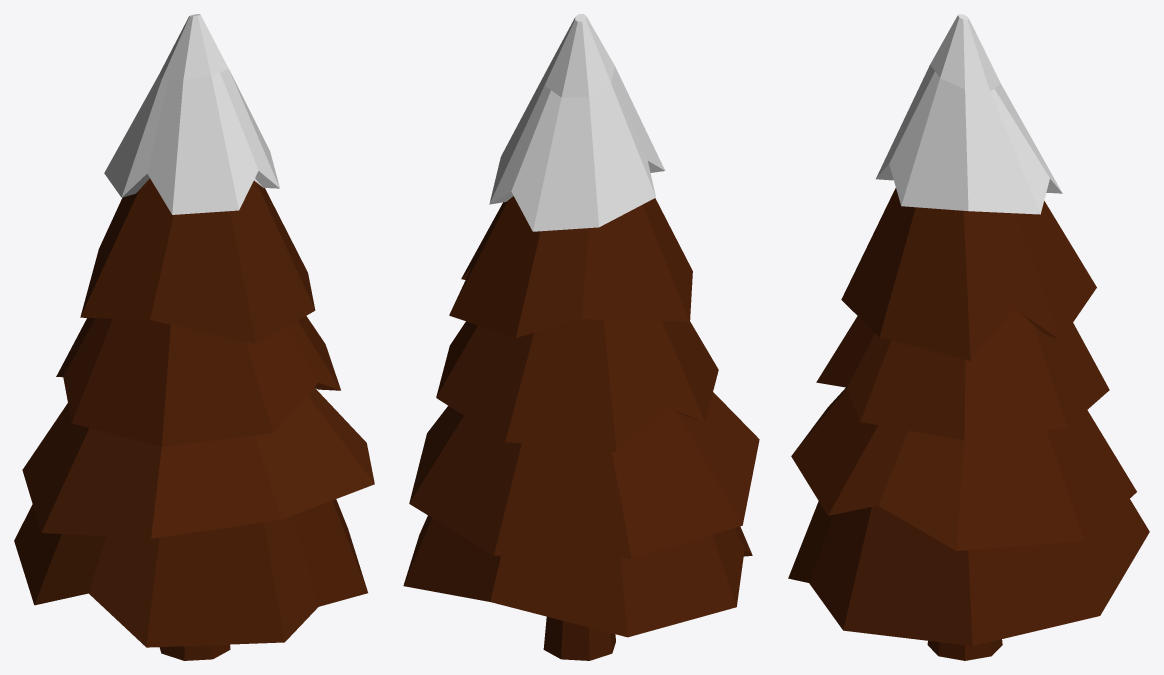
File: PistolGun.fbx
The picture shows the model from 3 angles, left to right: view 1: azimuth 30°, elevation 25°; view 2: azimuth 150°, elevation 25°; view 3: azimuth 270°, elevation 25°; orthographic projection.
Parts seen in each view (by area): view 1: Bottor green part, Middle green part 1, Middle green part 2, Middle green part 2.001, Top green part 2.002, Stvol; view 2: Middle green part 1, Middle green part 2, Middle green part 2.001, Bottor green part, Top green part 2.002, Stvol; view 3: Middle green part 1, Bottor green part, Middle green part 2.001, Middle green part 2, Top green part 2.002, Stvol.
Boxes of the visible parts, box(x1,y1,x2,y2) form: Bottor green part: box(14, 499, 367, 647); Middle green part 1: box(22, 387, 374, 538); Middle green part 2: box(56, 316, 340, 446); Middle green part 2.001: box(80, 178, 315, 344); Top green part 2.002: box(104, 14, 279, 214); Stvol: box(159, 644, 230, 660); Middle green part 1: box(409, 392, 759, 557); Middle green part 2: box(436, 319, 718, 451); Middle green part 2.001: box(449, 196, 692, 337); Bottor green part: box(403, 515, 752, 637); Top green part 2.002: box(489, 14, 665, 231); Stvol: box(543, 616, 615, 660); Middle green part 1: box(791, 387, 1136, 550); Bottor green part: box(788, 499, 1149, 645); Middle green part 2.001: box(841, 188, 1096, 360); Middle green part 2: box(816, 308, 1109, 440); Top green part 2.002: box(876, 14, 1062, 214); Stvol: box(927, 639, 1002, 660).
Bounding box in the file's own units: 829 × 1581 × 823.
Materials: 6 (5 with a texture image).
